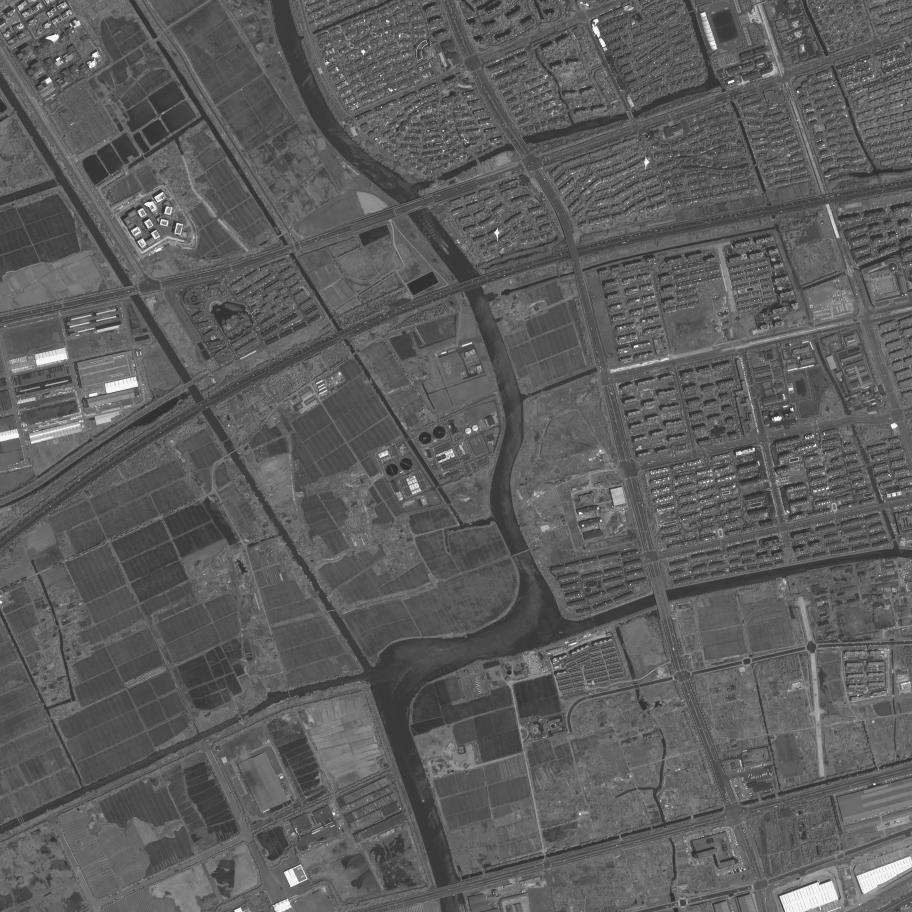ship: (439, 243, 450, 256), (440, 238, 450, 249), (418, 790, 425, 803)
storage-tank: (464, 427, 472, 434), (472, 425, 479, 432)
